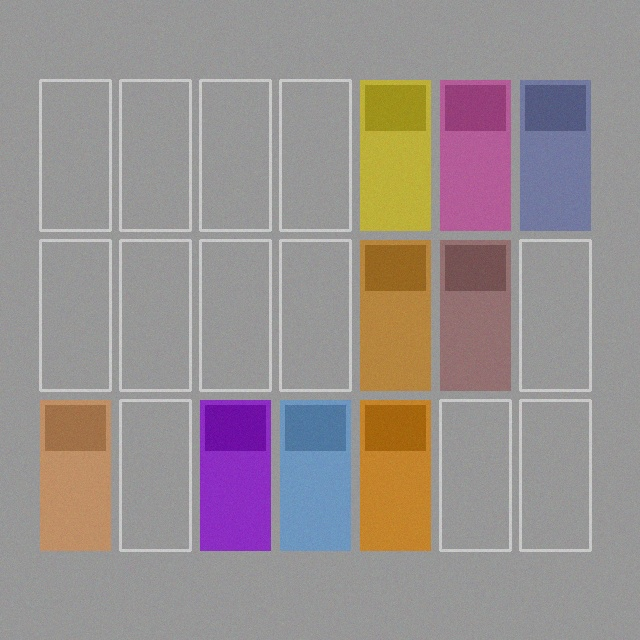space-empty: (40, 80, 110, 230), (120, 80, 190, 230), (200, 80, 270, 230), (280, 80, 350, 230), (40, 240, 110, 390), (120, 240, 190, 390), (200, 240, 270, 390), (280, 240, 350, 390), (520, 240, 590, 390), (120, 400, 190, 550), (440, 400, 510, 550), (520, 400, 590, 550)
space-occupied: (360, 80, 430, 230), (440, 80, 510, 230), (520, 80, 590, 230), (360, 240, 430, 390), (440, 240, 510, 390), (40, 400, 110, 550), (200, 400, 270, 550), (280, 400, 350, 550), (360, 400, 430, 550)
